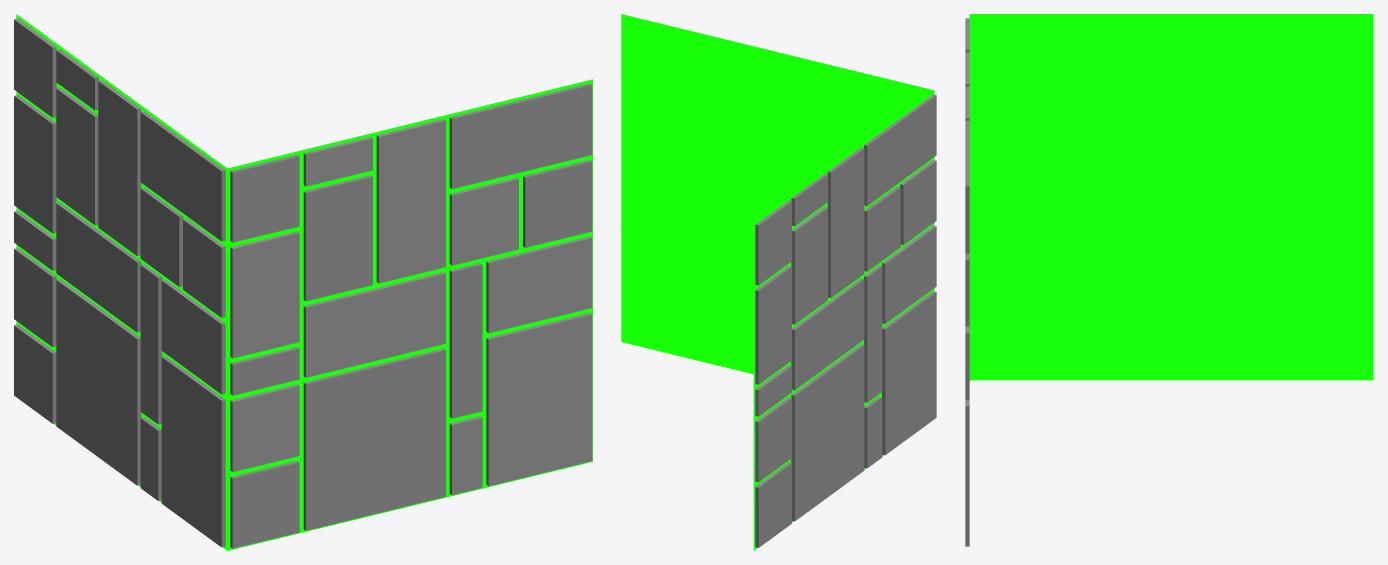
Rendered from Wall_14_Corner.FBX.
3 renders of one model, left to right at view 1: azimuth 30°, elevation 25°; view 2: azimuth 150°, elevation 25°; view 3: azimuth 270°, elevation 25°, orthographic. The views are drawn at different scales.
Visible parts, largest first — view 1: Wall_14_Corner_LOD0; view 2: Wall_14_Corner_LOD0; view 3: Wall_14_Corner_LOD0.
Boxes of the visible parts, <box> form: Wall_14_Corner_LOD0: <box>14,14,592,550</box>; Wall_14_Corner_LOD0: <box>621,14,936,550</box>; Wall_14_Corner_LOD0: <box>965,14,1373,546</box>.
Size of what is drawn, in the model's own units: 182 by 180 by 182.
